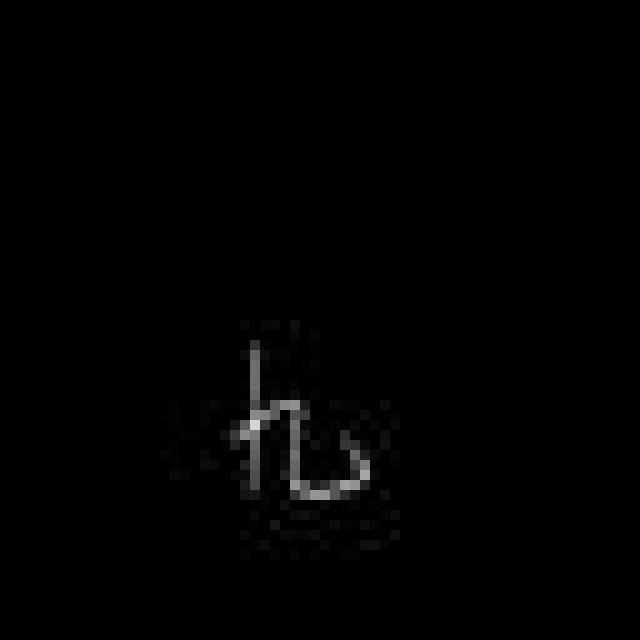9 -nine-: (227, 339, 375, 508)
